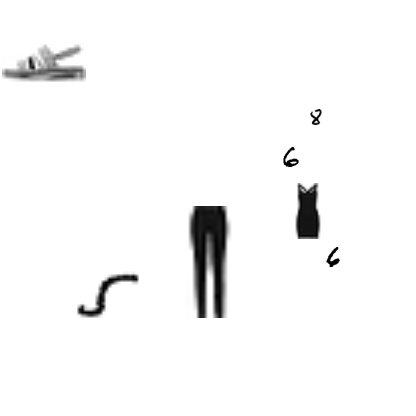5: (63, 251, 147, 335)
6: (276, 145, 304, 173), (318, 244, 346, 272)
8: (305, 106, 327, 128)
Dress: (280, 183, 336, 239)
Sandal: (2, 21, 86, 105)
Trouser: (150, 206, 262, 318)
